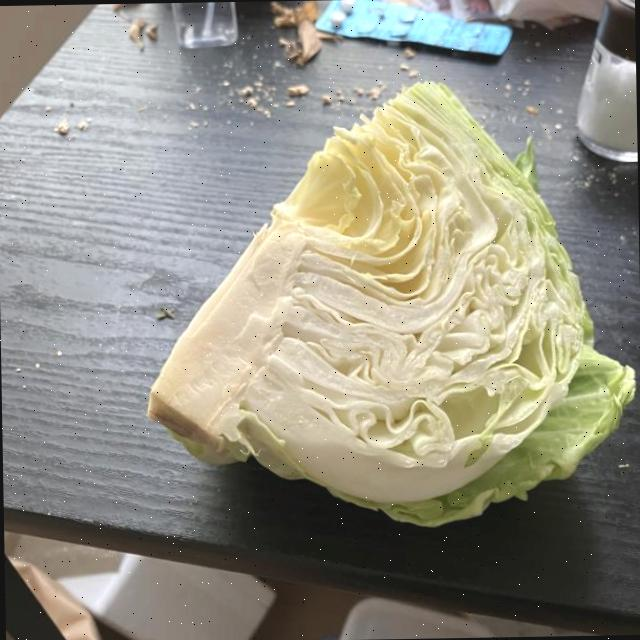cabbage: (134, 70, 638, 538)
